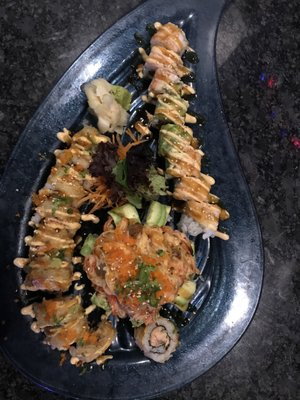sushi: (1, 5, 278, 390)
